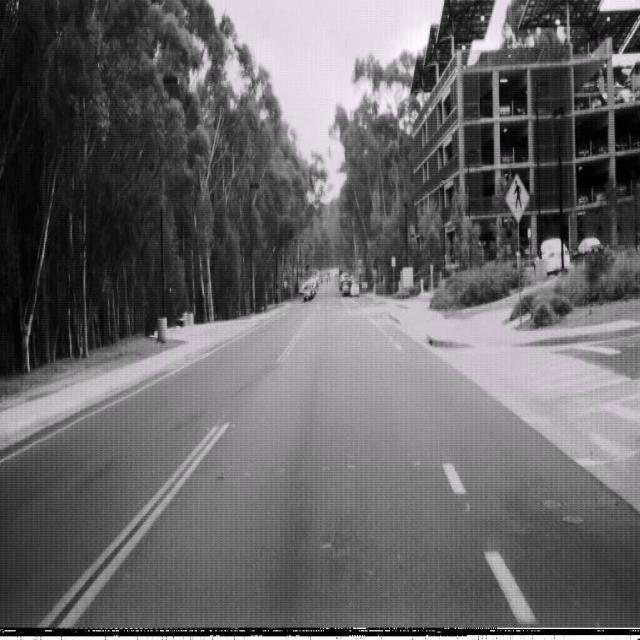pedestrianCrossing: (504, 172, 530, 223)
